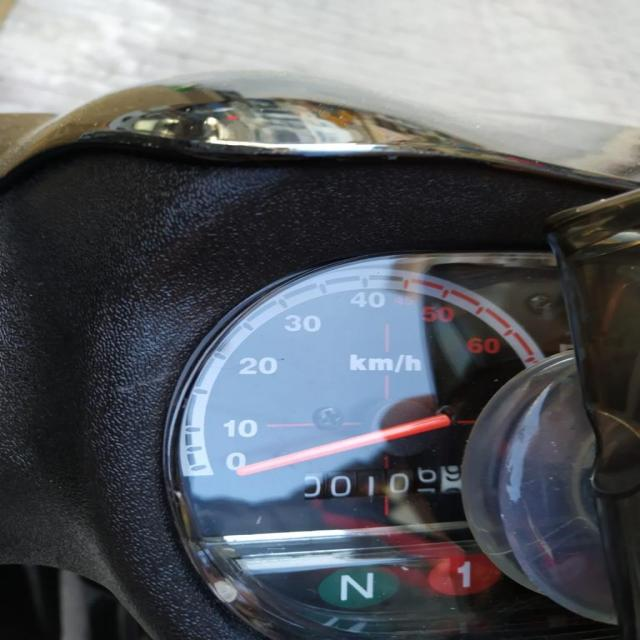odometer: (299, 464, 468, 501)
